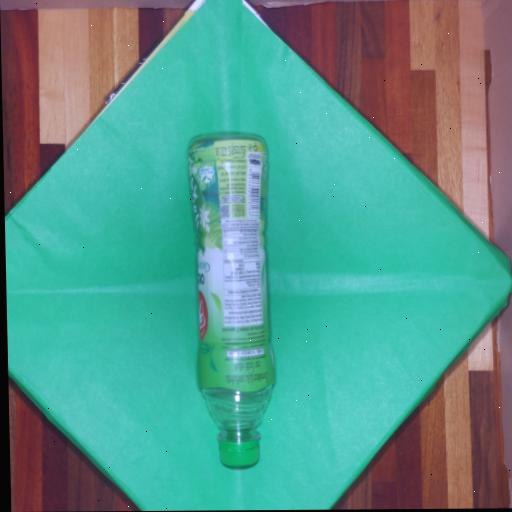bottle: (179, 118, 293, 473)
